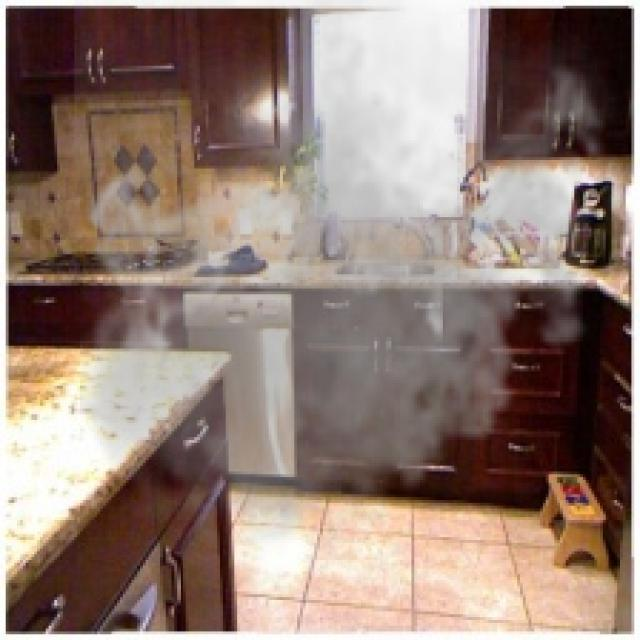Smoke: (74, 0, 623, 566)
